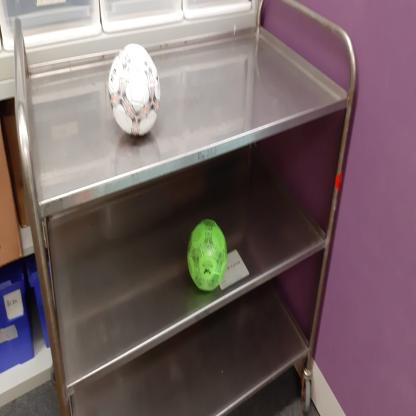ball: (109, 43, 160, 138), (188, 218, 228, 292)
